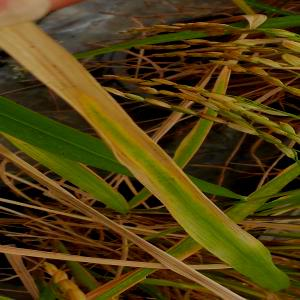2 BacterialBlight: (177, 181, 242, 273)
